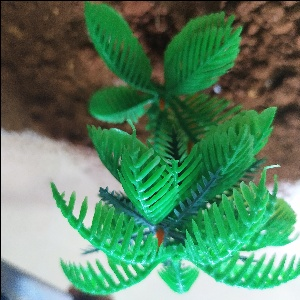plant: (67, 1, 300, 298)
